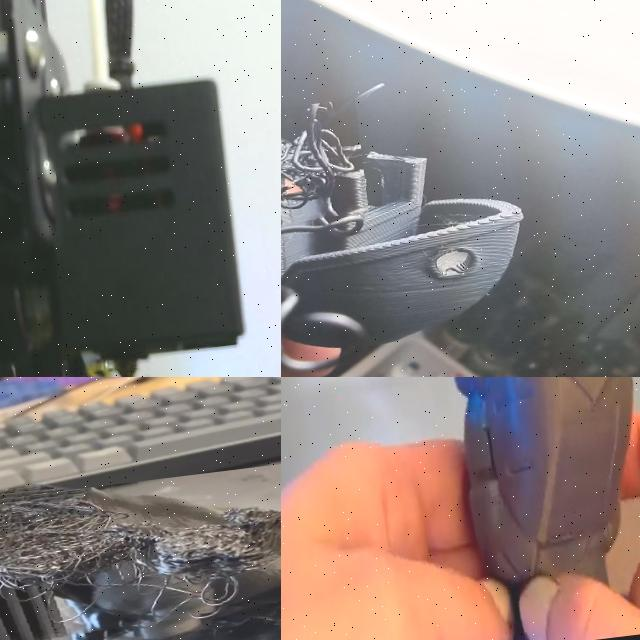spaghetti: (0, 463, 281, 640), (281, 101, 368, 216)
